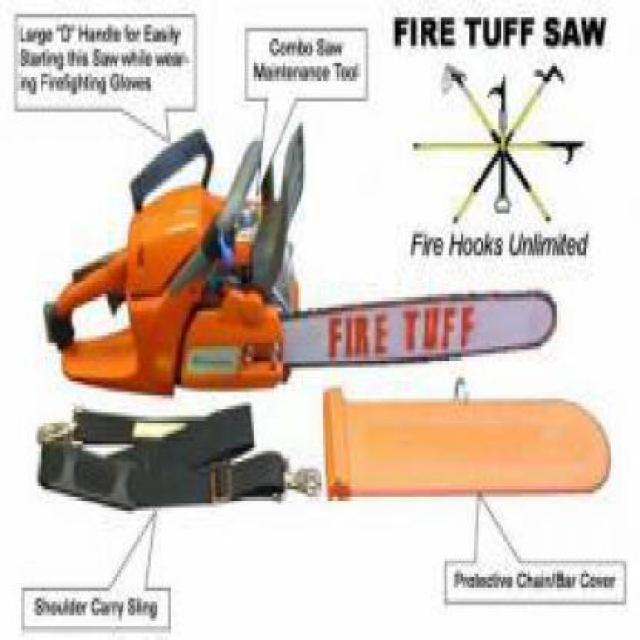Chainsaw: (42, 126, 566, 400)
